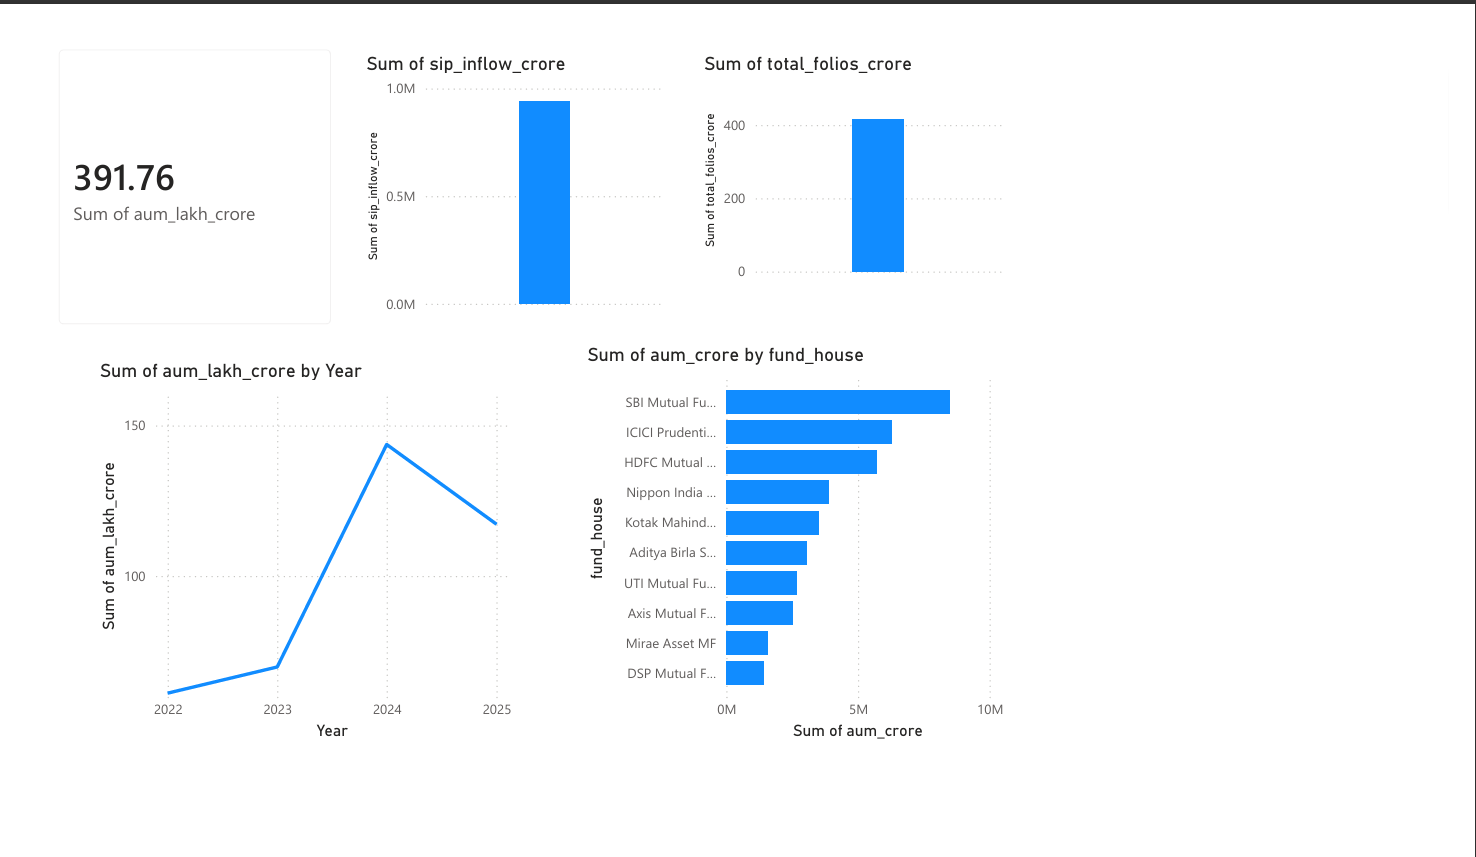

This screenshot's page, from the dashboard's own definition file:
{"tool":"powerbi","page":{"name":"Industry Overview","canvas":[1280,720],"ordinal":0},"visuals":[{"type":"cardVisual","fields":{"Data":["Sum(03_aum_by_fund_house.aum_lakh_crore)"]},"box":[11.7,0,279.1,280.6],"z":0},{"type":"clusteredColumnChart","fields":{"Y":["Sum(04_monthly_sip_inflows.sip_inflow_crore)"]},"box":[301.1,19,279.1,241.1],"z":1},{"type":"clusteredColumnChart","fields":{"Y":["Sum(06_industry_folio_count.total_folios_crore)"]},"box":[605,19,279.1,211.9],"z":2},{"type":"lineChart","fields":{"Category":["03_aum_by_fund_house.date.Variation.Date Hierarchy.Year","03_aum_by_fund_house.date.Variation.Date Hierarchy.Quarter","03_aum_by_fund_house.date.Variation.Date Hierarchy.Month","03_aum_by_fund_house.date.Variation.Date Hierarchy.Day"],"Y":["Sum(03_aum_by_fund_house.aum_lakh_crore)"]},"box":[61.4,295.2,380,346.4],"z":3},{"type":"clusteredBarChart","fields":{"Category":["03_aum_by_fund_house.fund_house"],"Y":["Sum(03_aum_by_fund_house.aum_crore)"]},"box":[499.8,280.6,384.4,361],"z":4}]}

Visuals, with their boxes on the page's 1280x720 design canvas (x1, y1, x2, y2). These are canvas units, not pixel positions in the 1476x857 screenshot, which may show the page scaled, cropped or inside an application window:
cardVisual - Sum(03_aum_by_fund_house.aum_lakh_crore): 12, 0, 291, 281
clusteredColumnChart - Sum(04_monthly_sip_inflows.sip_inflow_crore): 301, 19, 580, 260
clusteredColumnChart - Sum(06_industry_folio_count.total_folios_crore): 605, 19, 884, 231
lineChart - 03_aum_by_fund_house.date.Variation.Date Hierarchy.Year x 03_aum_by_fund_house.date.Variation.Date Hierarchy.Quarter: 61, 295, 441, 642
clusteredBarChart - 03_aum_by_fund_house.fund_house x Sum(03_aum_by_fund_house.aum_crore): 500, 281, 884, 642
